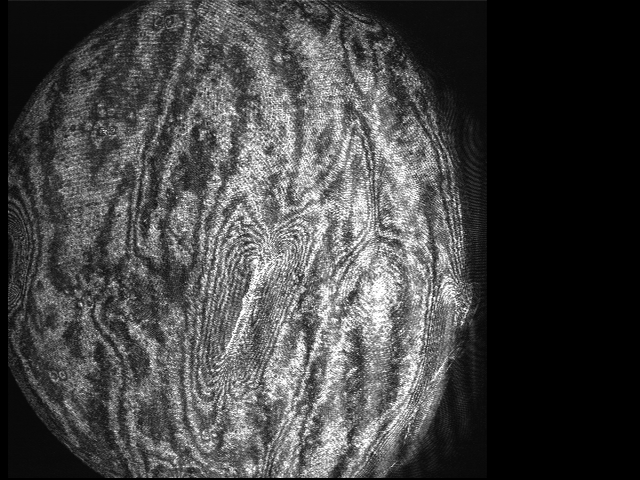plume: (192, 203, 309, 396)
